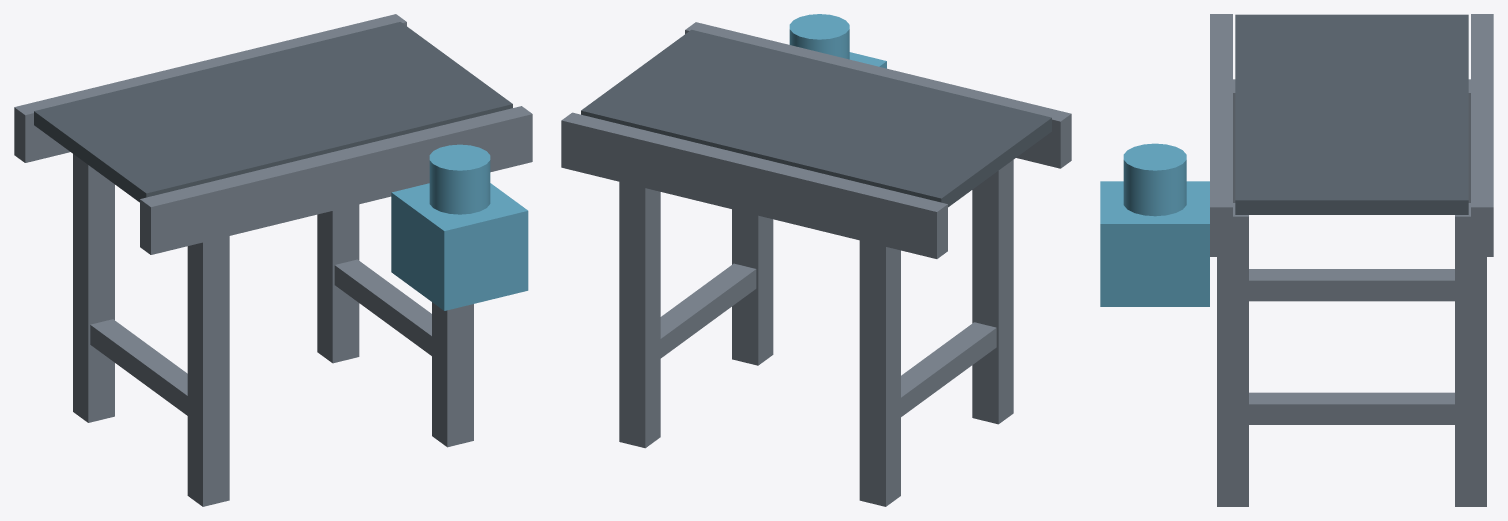
Rendered from belt-conveyor-1m.glb.
The picture shows the model from 3 angles, left to right: view 1: azimuth 30°, elevation 25°; view 2: azimuth 150°, elevation 25°; view 3: azimuth 270°, elevation 25°; orthographic projection. The views are drawn at different scales.
Visible parts, largest first — view 1: Frame_Chassis, Belt_Surface, Drive_Motor_Unit; view 2: Frame_Chassis, Belt_Surface, Drive_Motor_Unit; view 3: Belt_Surface, Frame_Chassis, Drive_Motor_Unit.
Boxes of the visible parts, x1,y1,x2,y2 form: Frame_Chassis: (14, 14, 532, 506); Belt_Surface: (34, 22, 512, 202); Drive_Motor_Unit: (391, 144, 528, 310); Frame_Chassis: (561, 22, 1071, 506); Belt_Surface: (581, 29, 1051, 207); Drive_Motor_Unit: (789, 14, 886, 68); Belt_Surface: (1235, 14, 1468, 214); Frame_Chassis: (1210, 14, 1493, 506); Drive_Motor_Unit: (1100, 143, 1209, 306).
Size of the model in its own units: 1 by 0.7975 by 0.86.
